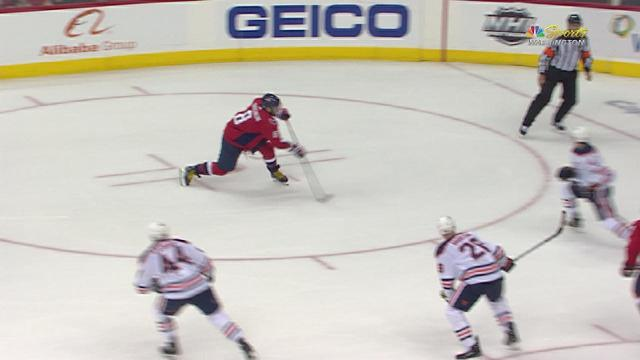geico: (224, 3, 422, 46)
